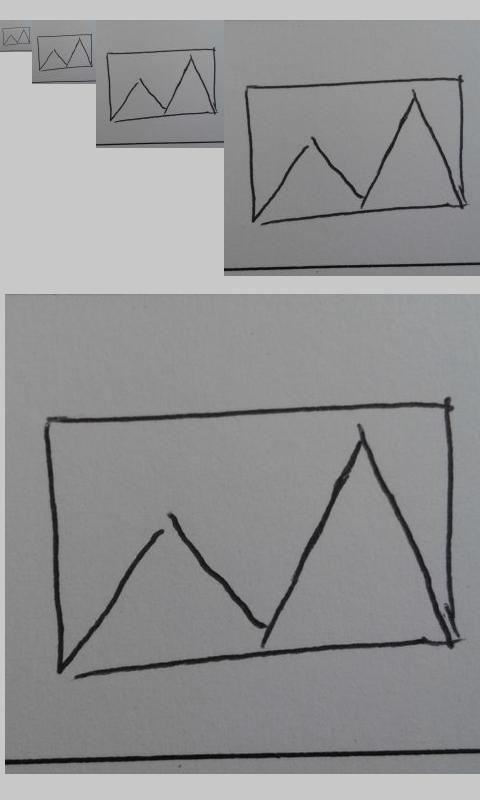image_view: (41, 401, 464, 680), (242, 73, 467, 229), (106, 48, 218, 124), (36, 33, 93, 72), (1, 26, 31, 46)
